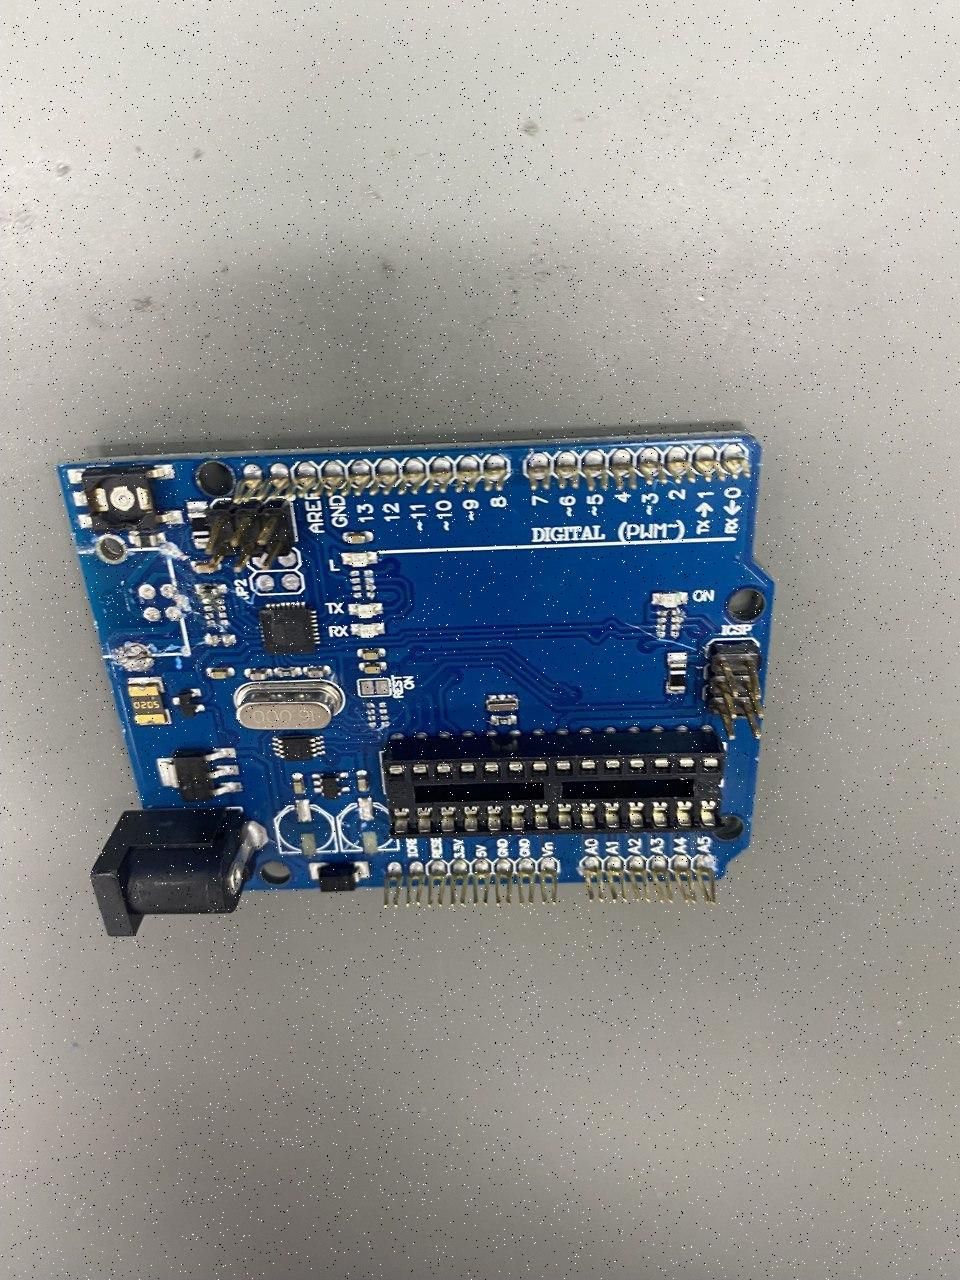Arduino board: (56, 429, 775, 936)
